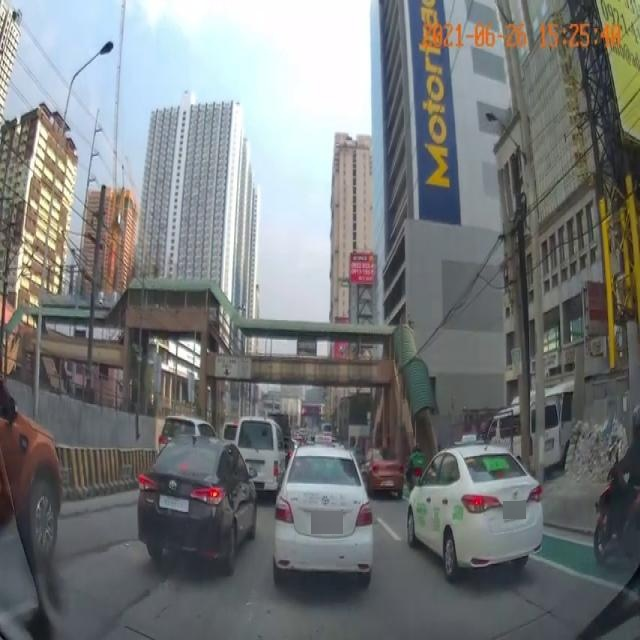car: (417, 458, 540, 593), (145, 431, 248, 573), (279, 443, 376, 591), (238, 417, 283, 487)
motorcycle: (593, 404, 640, 563)
